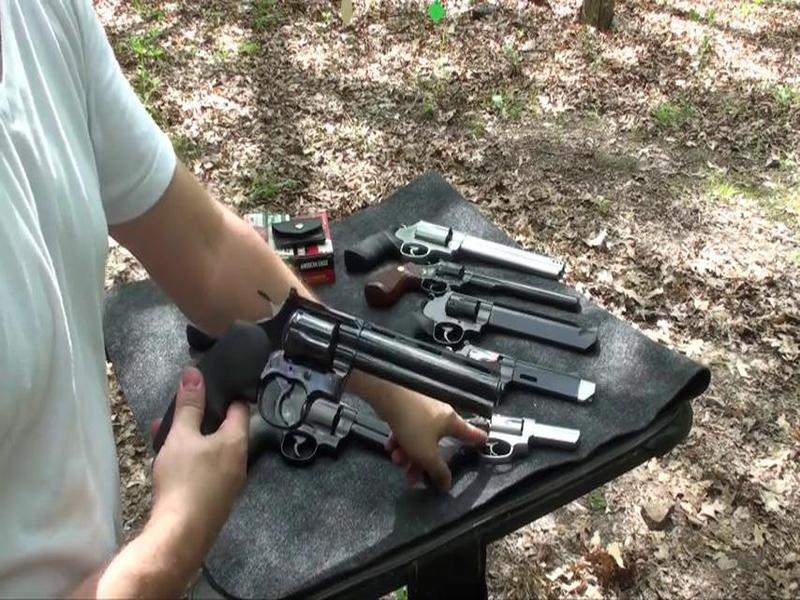Revolver: (180, 294, 500, 486)
